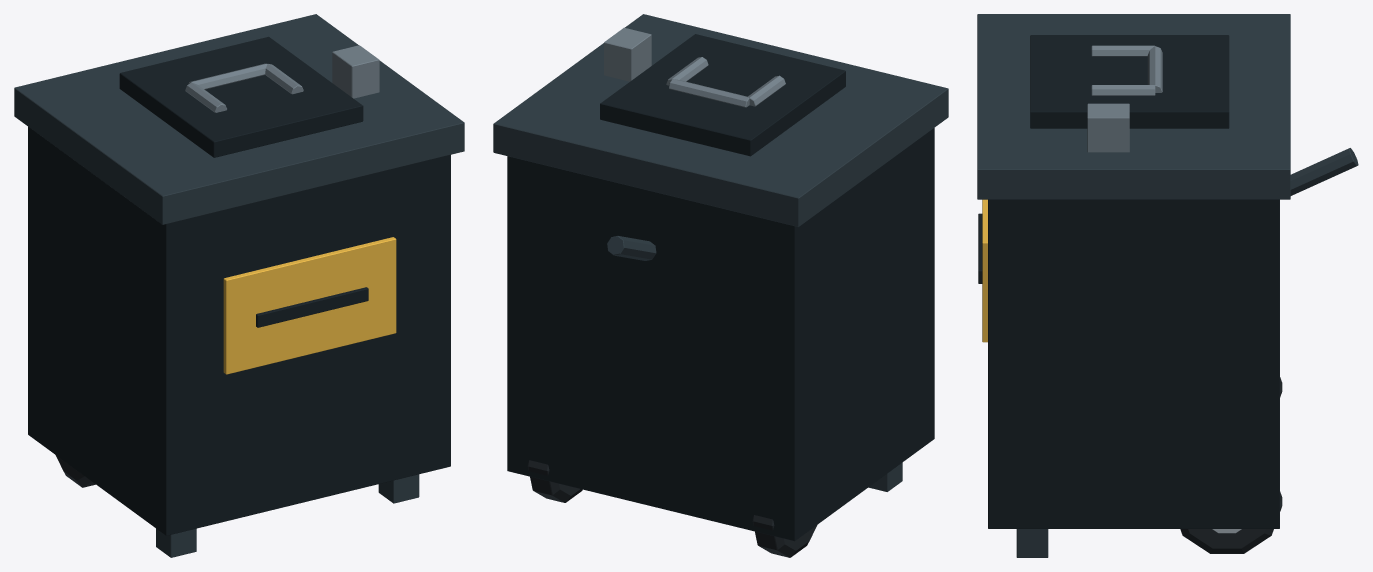
The model's file is b04_restaurant_used_grease_container.glb.
3 renders of one model, left to right at view 1: azimuth 30°, elevation 25°; view 2: azimuth 150°, elevation 25°; view 3: azimuth 270°, elevation 25°, orthographic. The views are drawn at different scales.
Visible parts, largest first — view 1: b04_restaurant_used_grease_container; view 2: b04_restaurant_used_grease_container; view 3: b04_restaurant_used_grease_container.
Part boxes in pixels (x1,y1,x2,y2): b04_restaurant_used_grease_container: (14,14,464,557); b04_restaurant_used_grease_container: (493,14,948,557); b04_restaurant_used_grease_container: (977,14,1358,557).
Size of the model in its own units: 0.87 by 1.14 by 0.9005.
